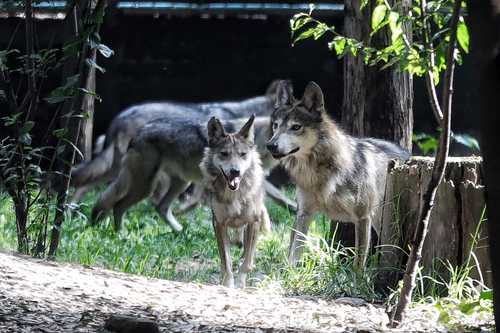Lobo: (268, 77, 388, 252), (207, 113, 283, 278)
